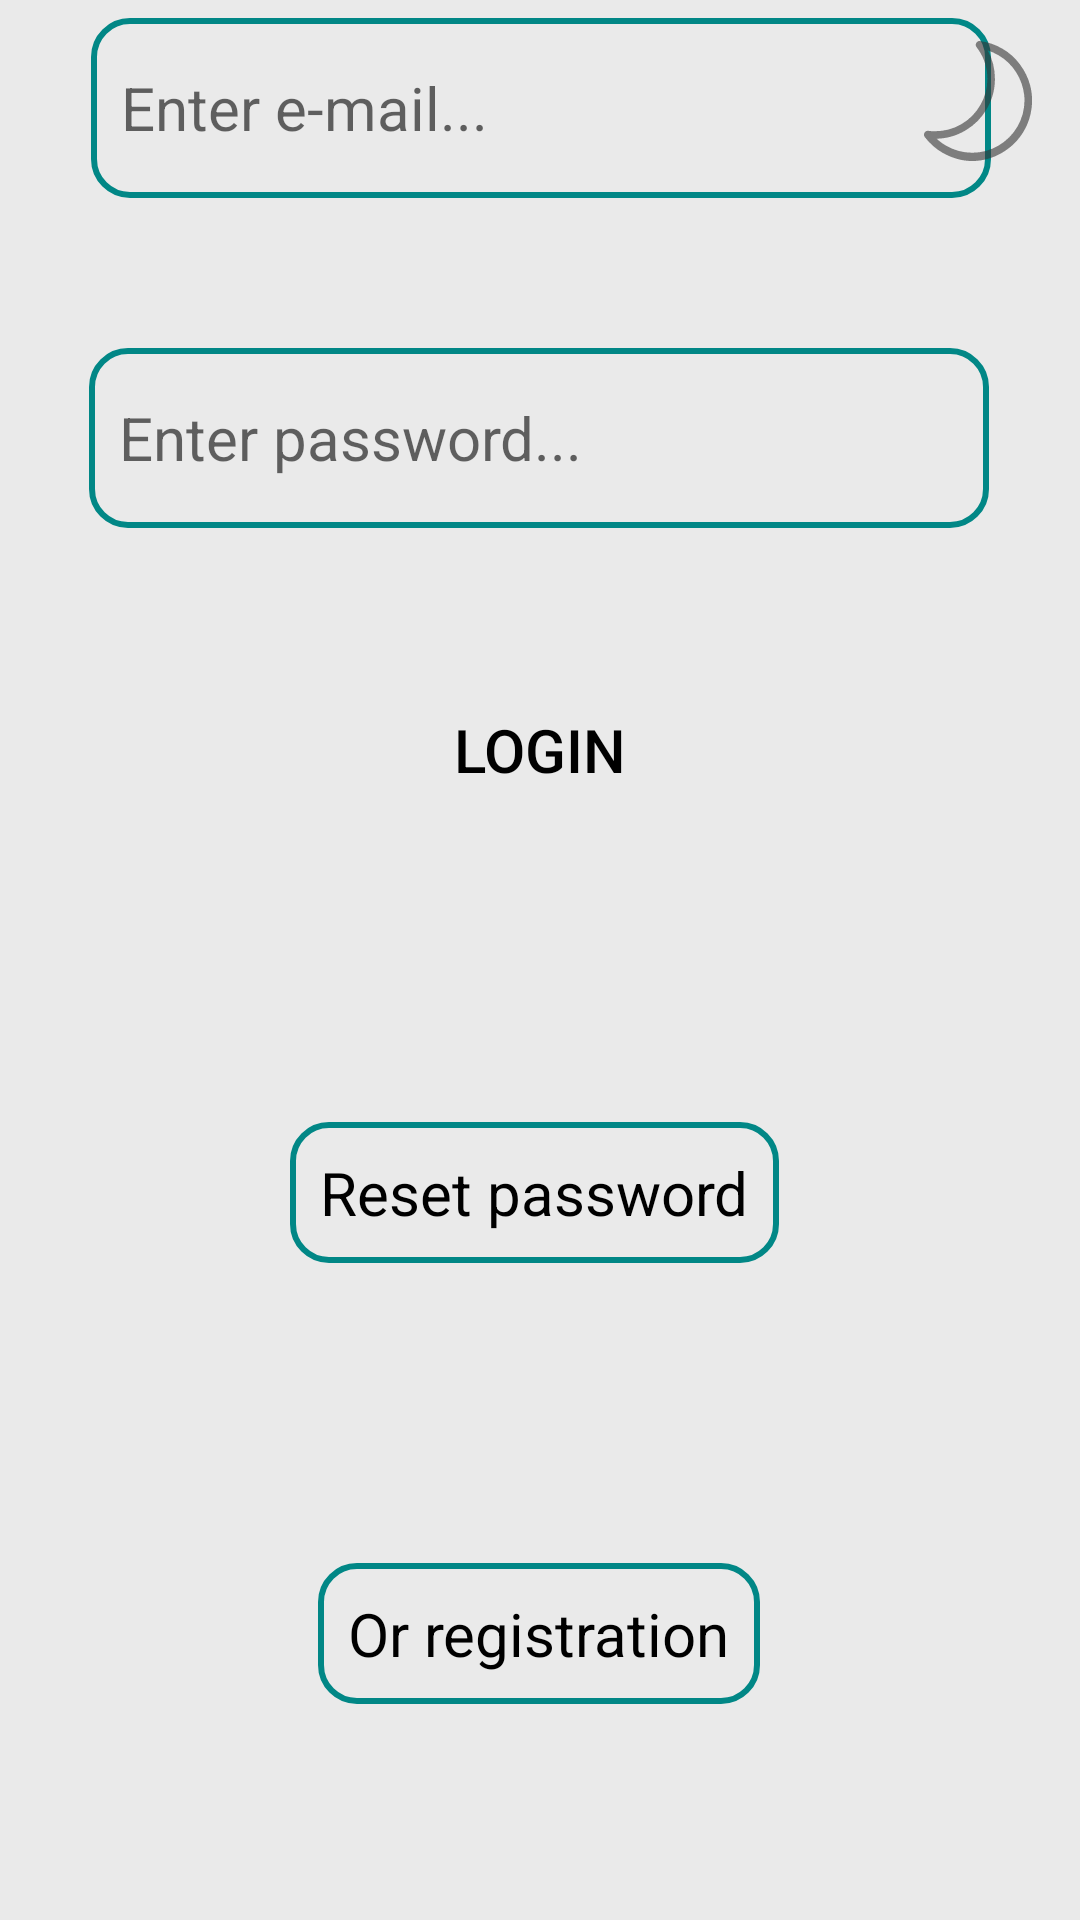

Named icons in this screenshot (1080w x 1920h) and their bounding boxes, rect(x1, y1, x2, y2):
moon: rect(924, 41, 1032, 161)
